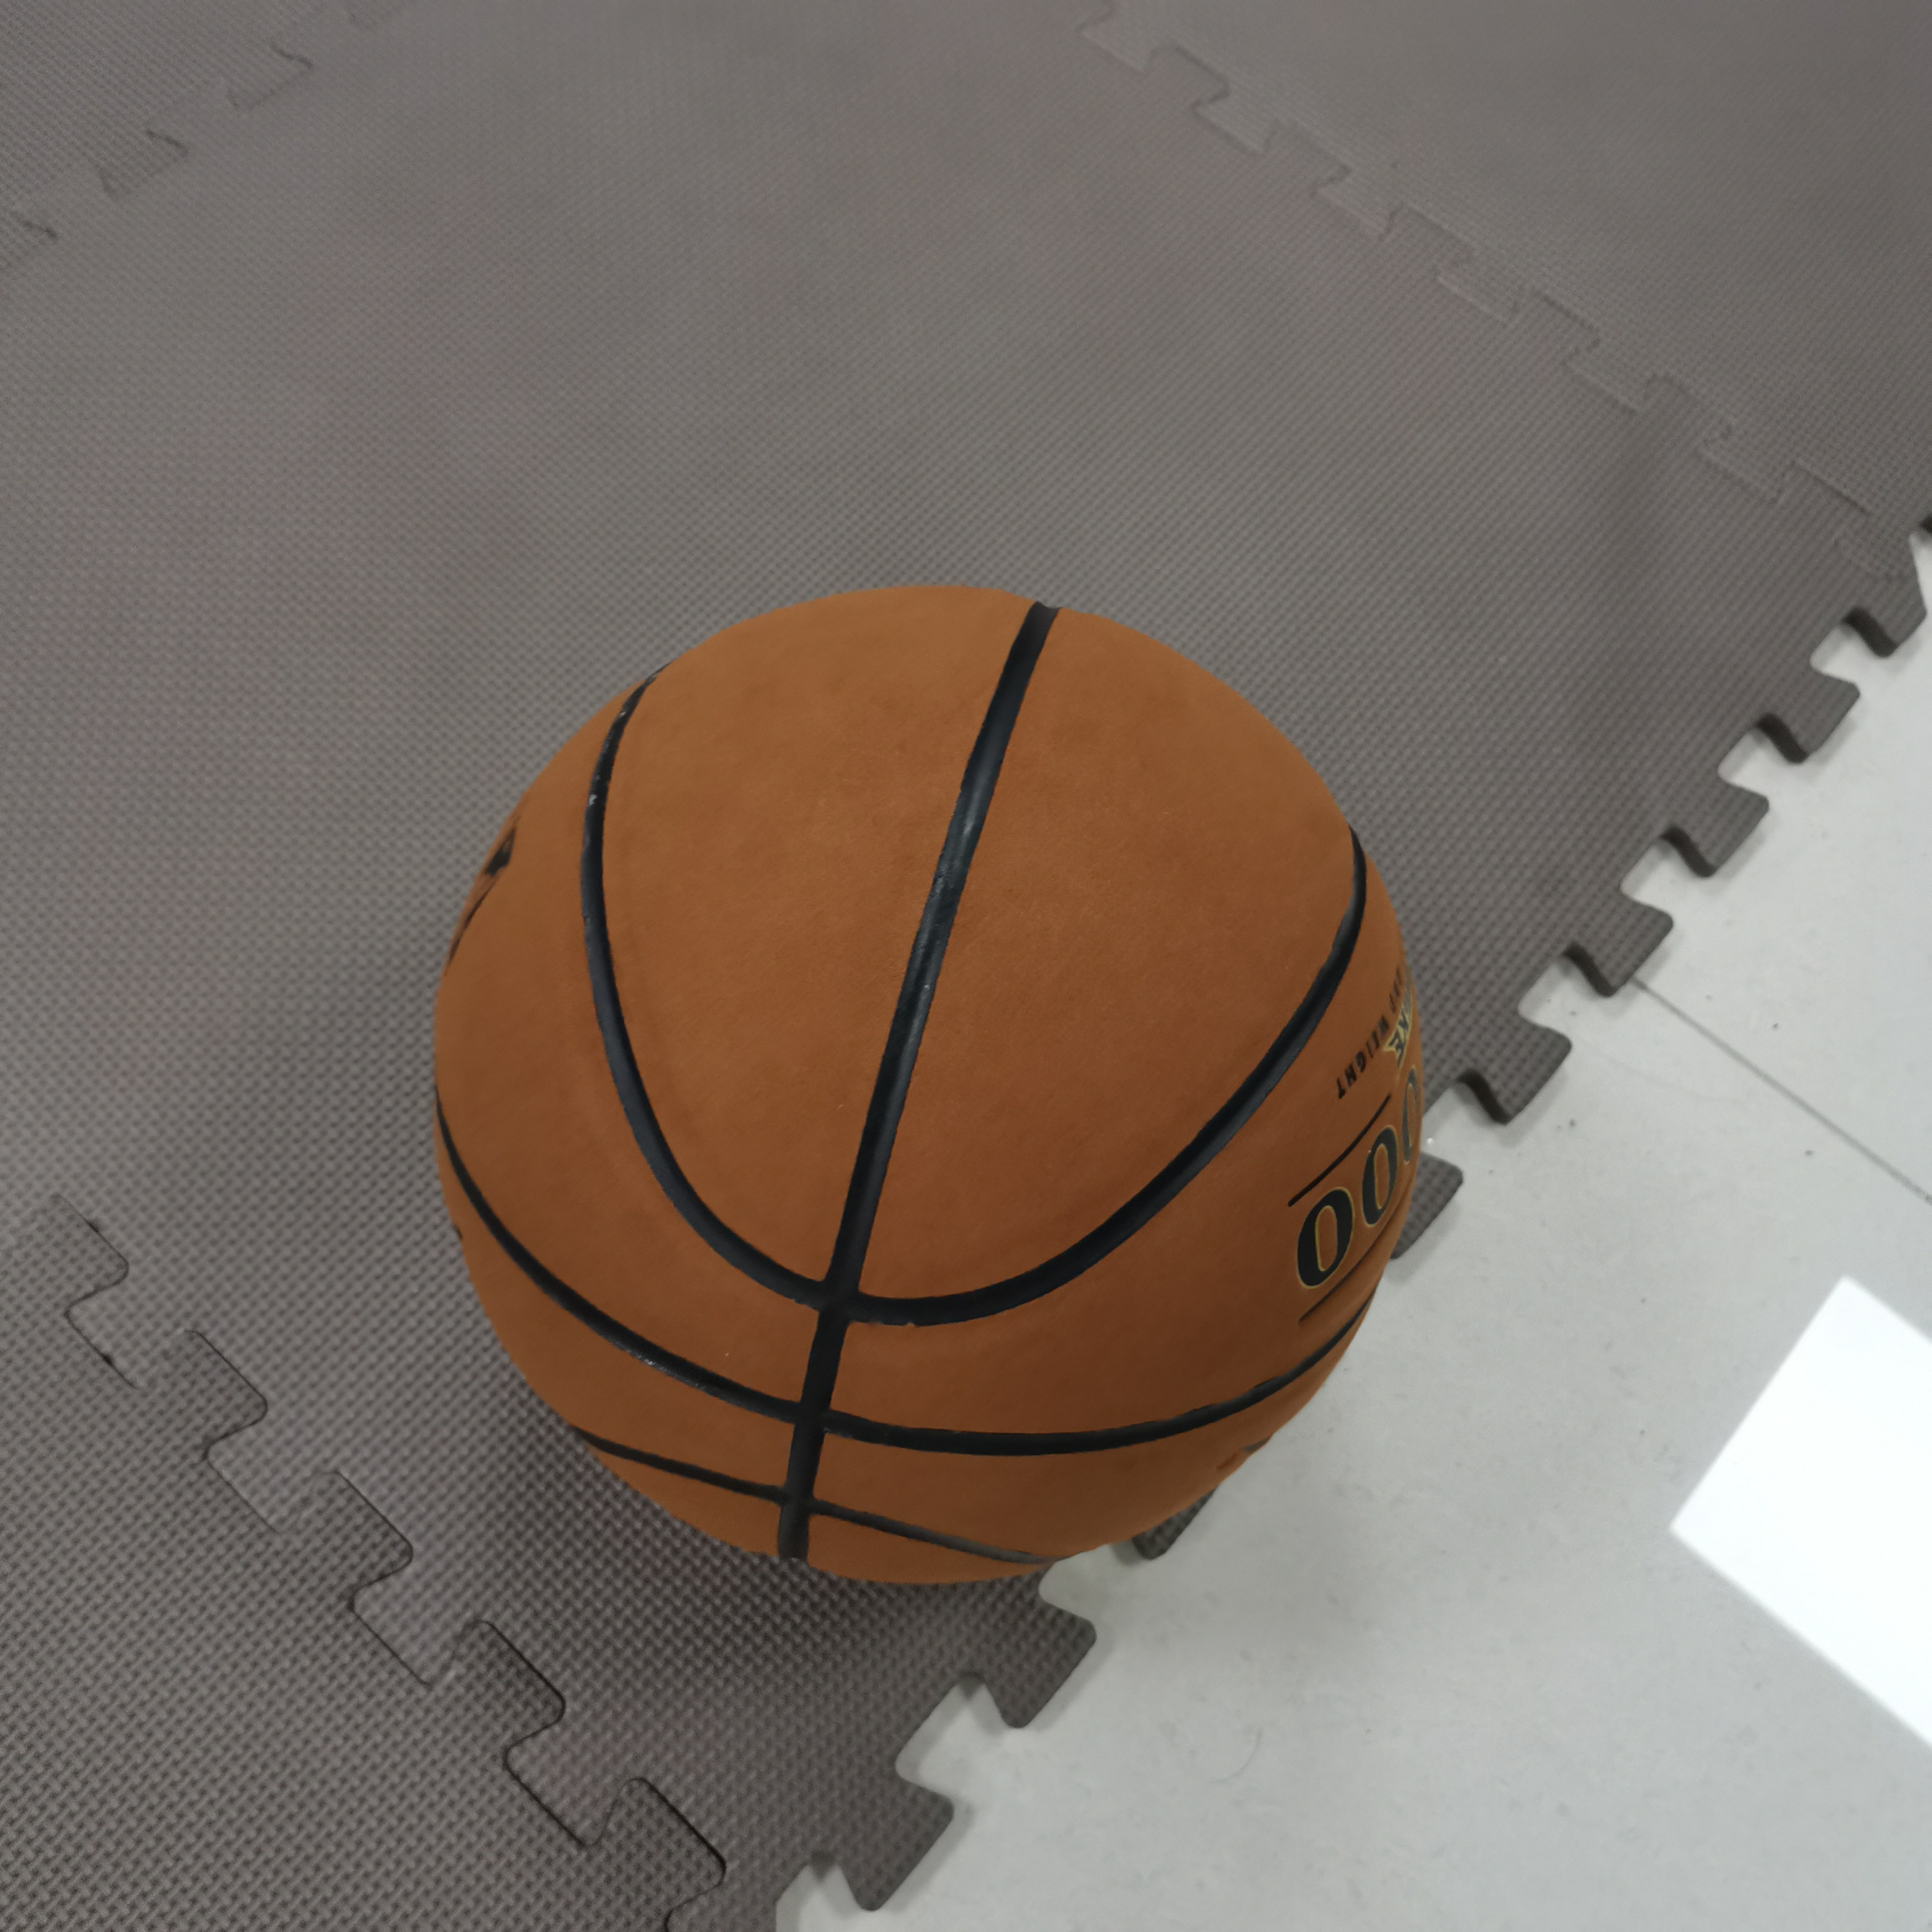basketball: (432, 584, 1422, 1589)
